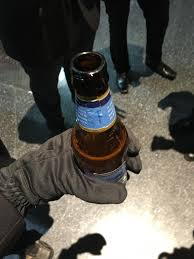beer: (69, 51, 131, 195)
